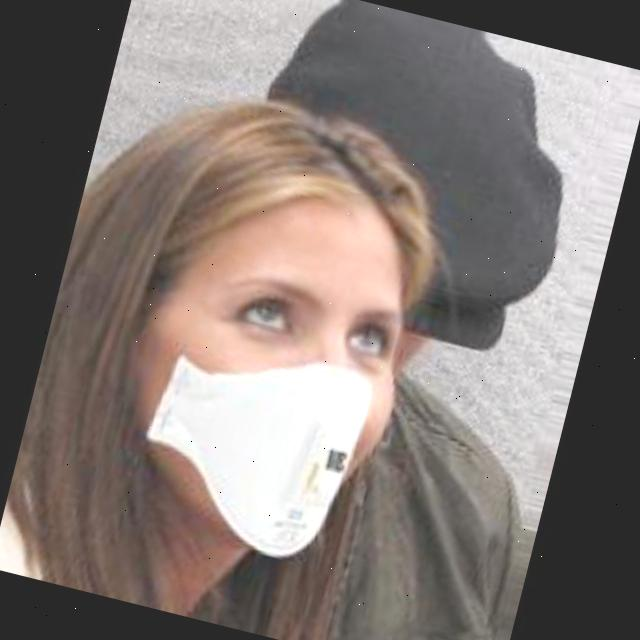suspicion: (44, 74, 449, 562)
